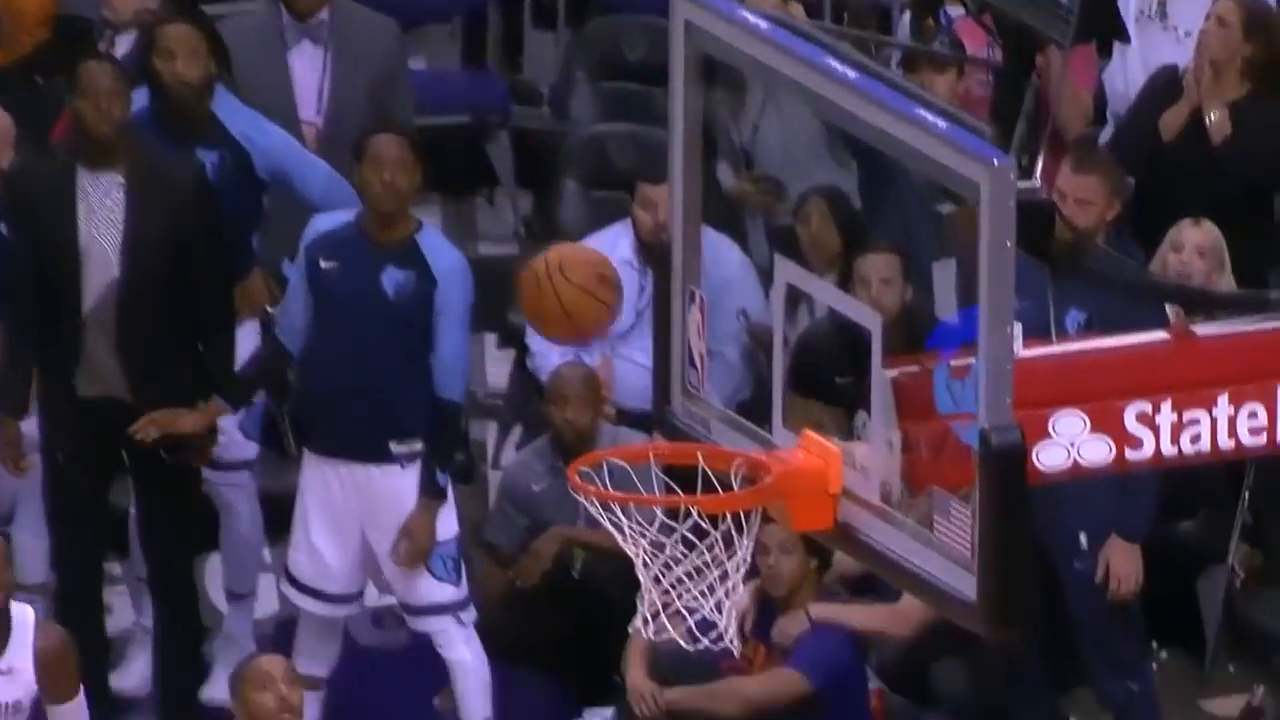ball: (518, 239, 633, 352)
